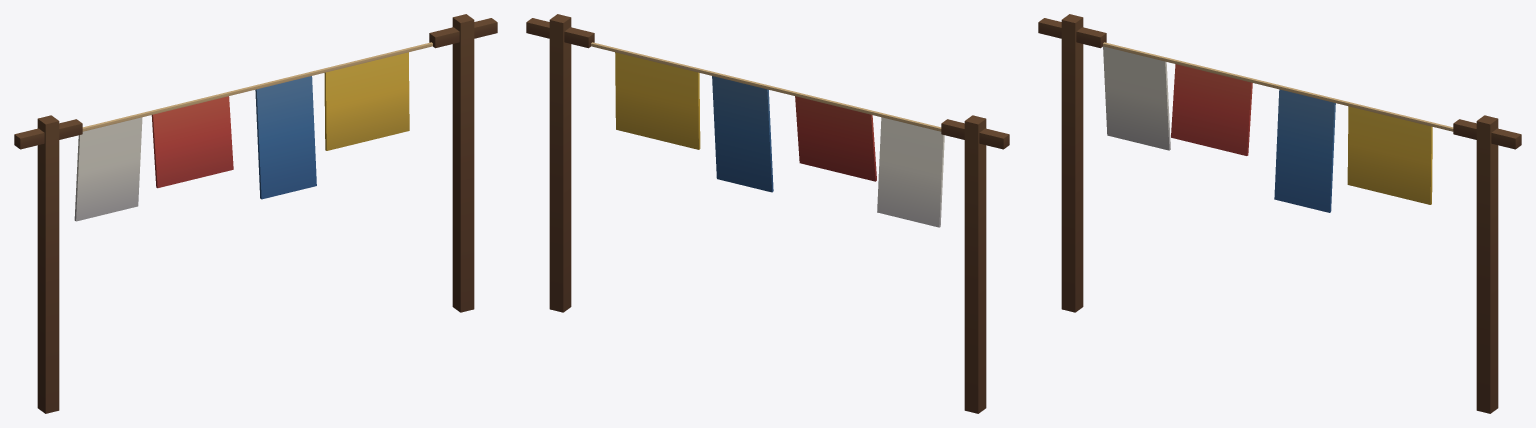
Rendered from clothesline.glb.
The picture shows the model from 3 angles, left to right: view 1: azimuth 30°, elevation 25°; view 2: azimuth 150°, elevation 25°; view 3: azimuth 330°, elevation 25°; orthographic projection.
Visible parts, largest first — view 1: clothesline; view 2: clothesline; view 3: clothesline.
Part boxes in pixels (left/top/right/bottom): clothesline: left=14, top=14, right=497, bottom=413; clothesline: left=526, top=14, right=1009, bottom=413; clothesline: left=1038, top=14, right=1521, bottom=413.
Bounding box in the file's own units: 13.8 × 8 × 0.5304.
1 material, 1 textured.
